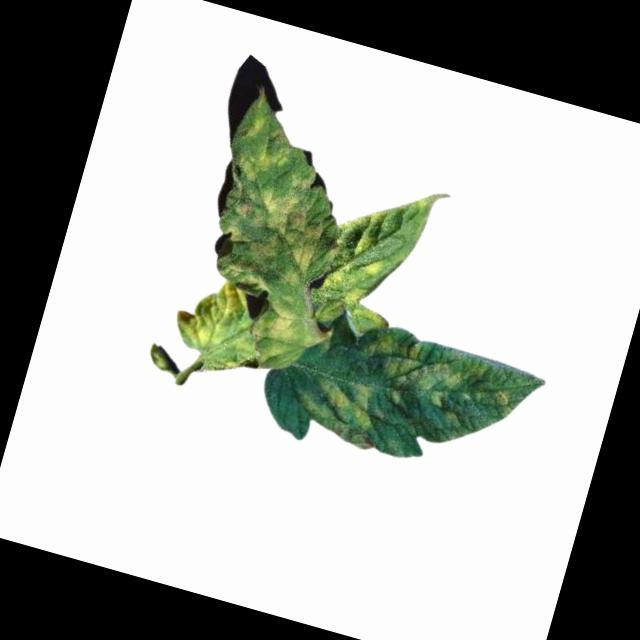Leaf_Mold: (195, 92, 366, 306), (350, 320, 535, 436), (316, 170, 434, 319), (163, 268, 274, 382), (290, 364, 390, 454), (248, 292, 317, 377)
